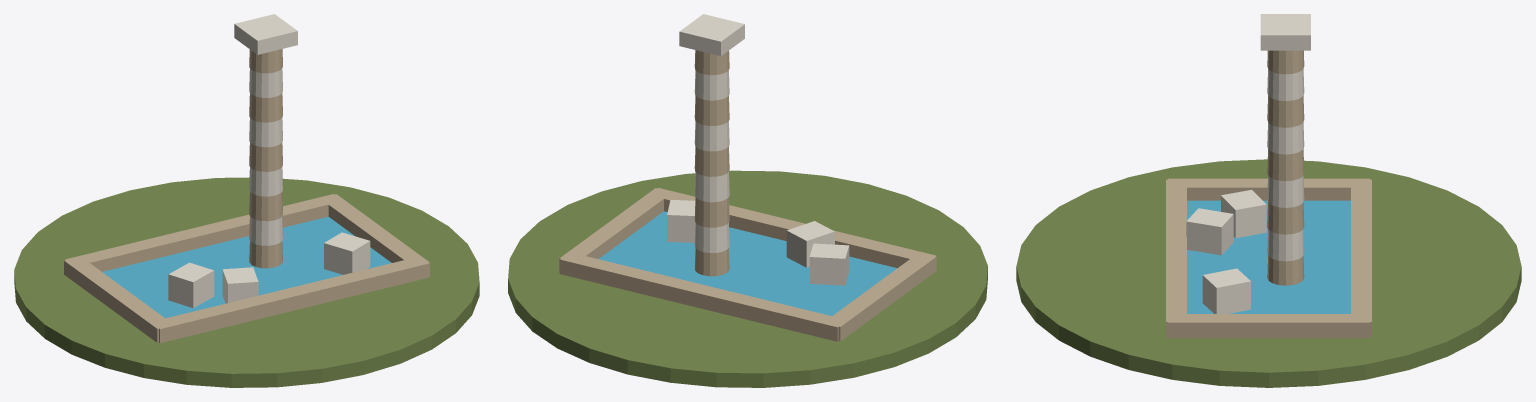
File: efes_artemis.glb
The picture shows the model from 3 angles, left to right: view 1: azimuth 30°, elevation 25°; view 2: azimuth 150°, elevation 25°; view 3: azimuth 270°, elevation 25°; orthographic projection. The views are drawn at different scales.
Bounding box in the file's own units: 0.6 × 0.355 × 0.6.
